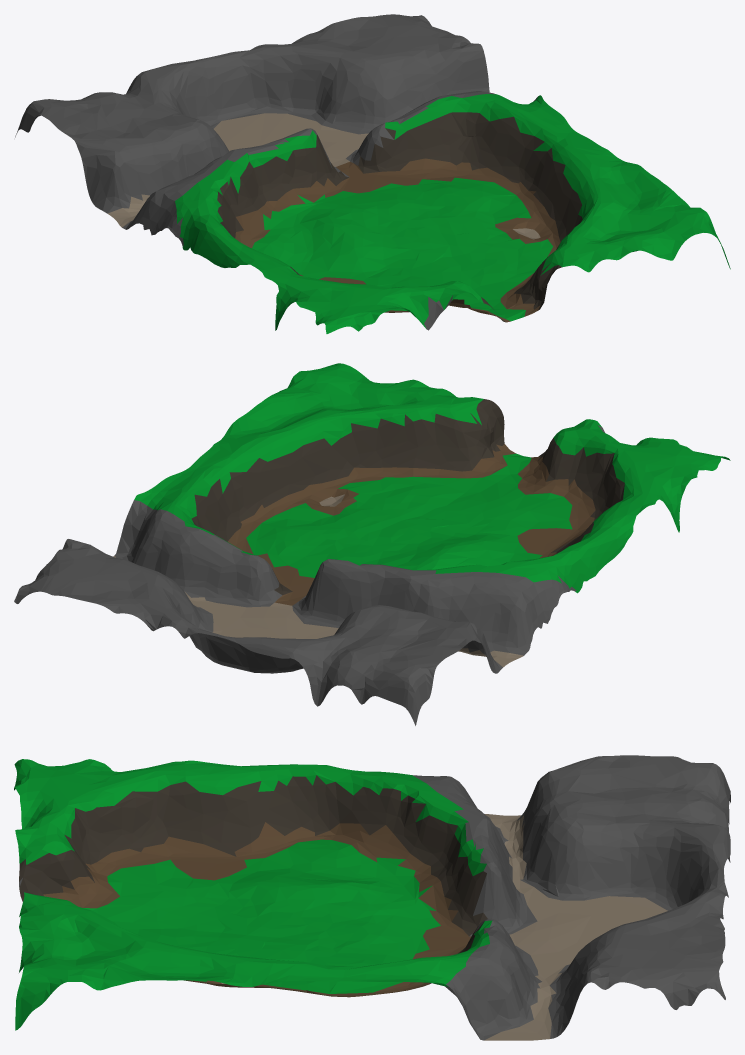
The model's file is landscape01.fbx.
3 views of the same model, one above another, from view 1: azimuth 30°, elevation 25°; view 2: azimuth 150°, elevation 25°; view 3: azimuth 270°, elevation 25° (orthographic). The views are drawn at different scales.
Visible parts, largest first — view 1: landscape01; view 2: landscape01; view 3: landscape01.
Boxes of the visible parts, x1,y1,x2,y2 form: landscape01: [15, 14, 730, 333]; landscape01: [14, 363, 730, 725]; landscape01: [14, 755, 730, 1040].
Bounding box in the file's own units: 30001 × 3717 × 40002.
